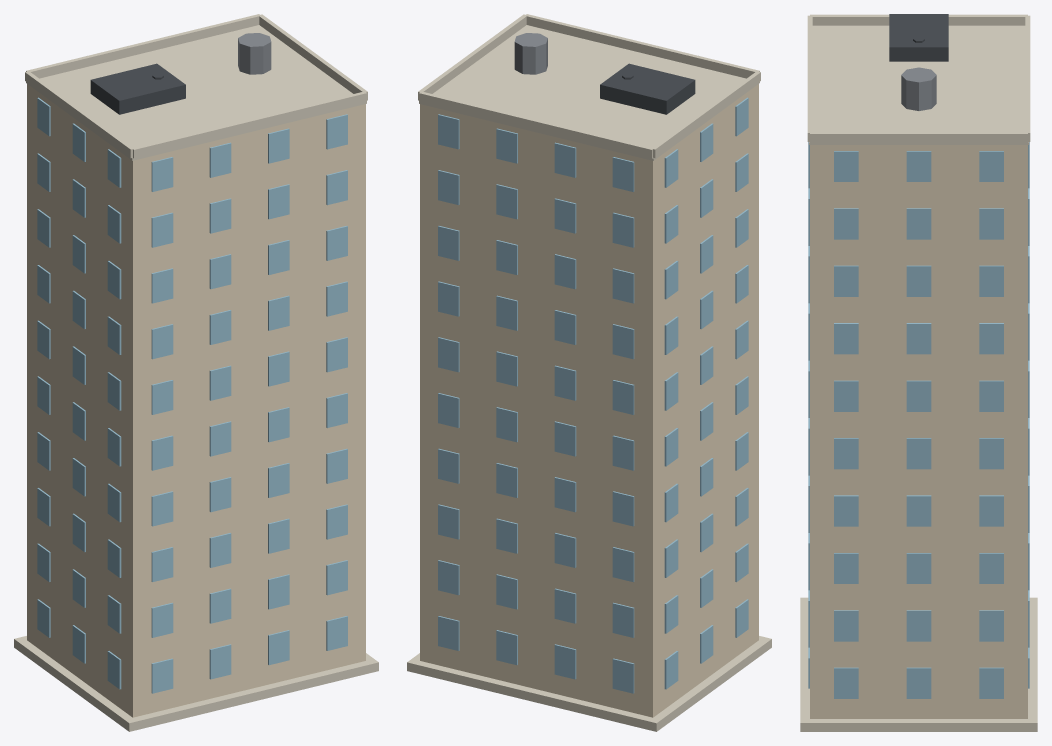
The model's file is building.skyscraper-slab.glb.
The picture shows the model from 3 angles, left to right: view 1: azimuth 30°, elevation 25°; view 2: azimuth 150°, elevation 25°; view 3: azimuth 270°, elevation 25°; orthographic projection. The views are drawn at different scales.
Visible parts, largest first — view 1: building.skyscraper-slab; view 2: building.skyscraper-slab; view 3: building.skyscraper-slab.
Boxes of the visible parts, x1,y1,x2,y2 form: building.skyscraper-slab: (14, 14, 378, 731); building.skyscraper-slab: (407, 14, 771, 731); building.skyscraper-slab: (800, 14, 1037, 731).
Size of the model in its own units: 15 by 34.75 by 12.
